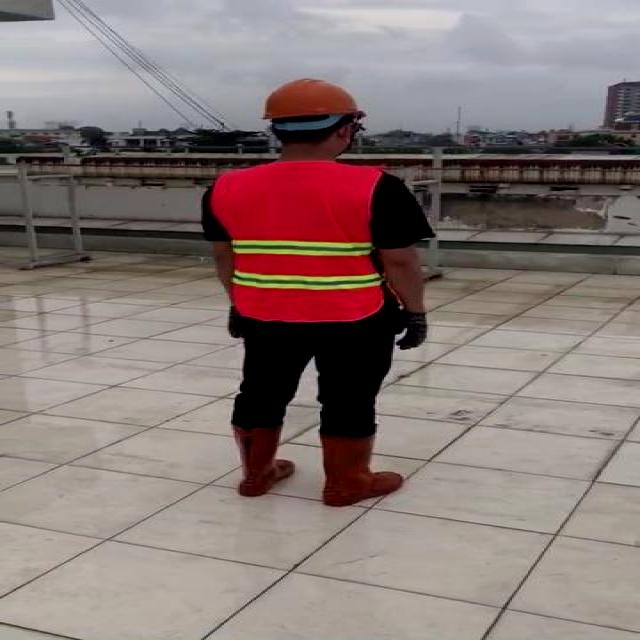boots: (315, 426, 407, 508), (226, 423, 290, 499)
hand_glove: (384, 309, 427, 350)
head_helmet: (262, 76, 366, 120)
person: (190, 72, 444, 510)
vest: (210, 160, 389, 321)
